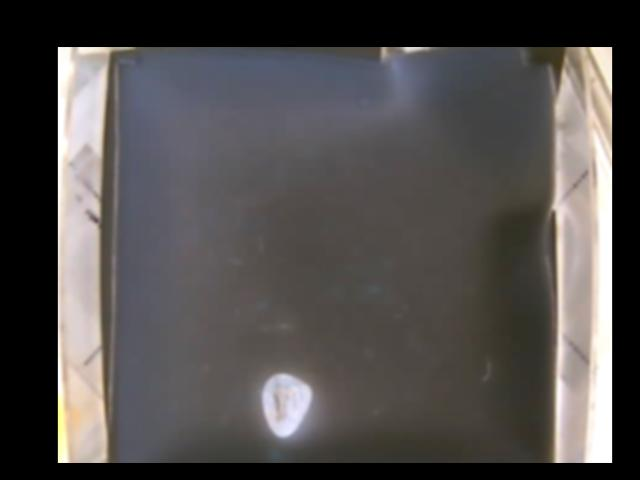Pebble: (262, 371, 312, 436)
